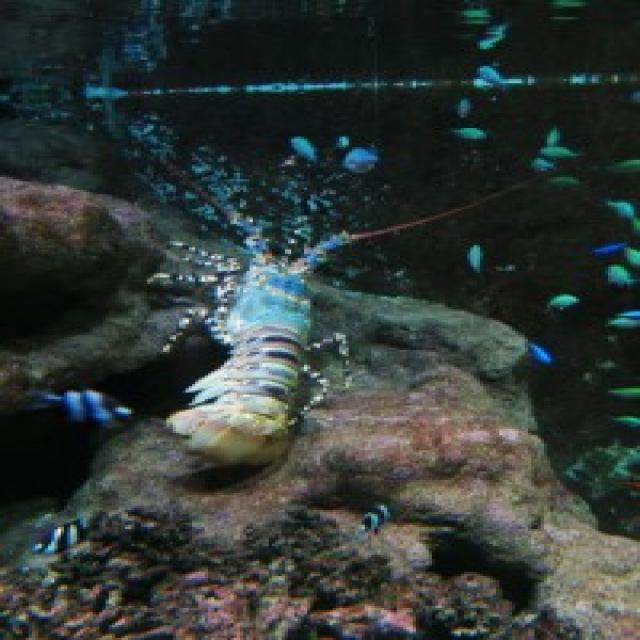lobsters: (97, 112, 640, 554)
